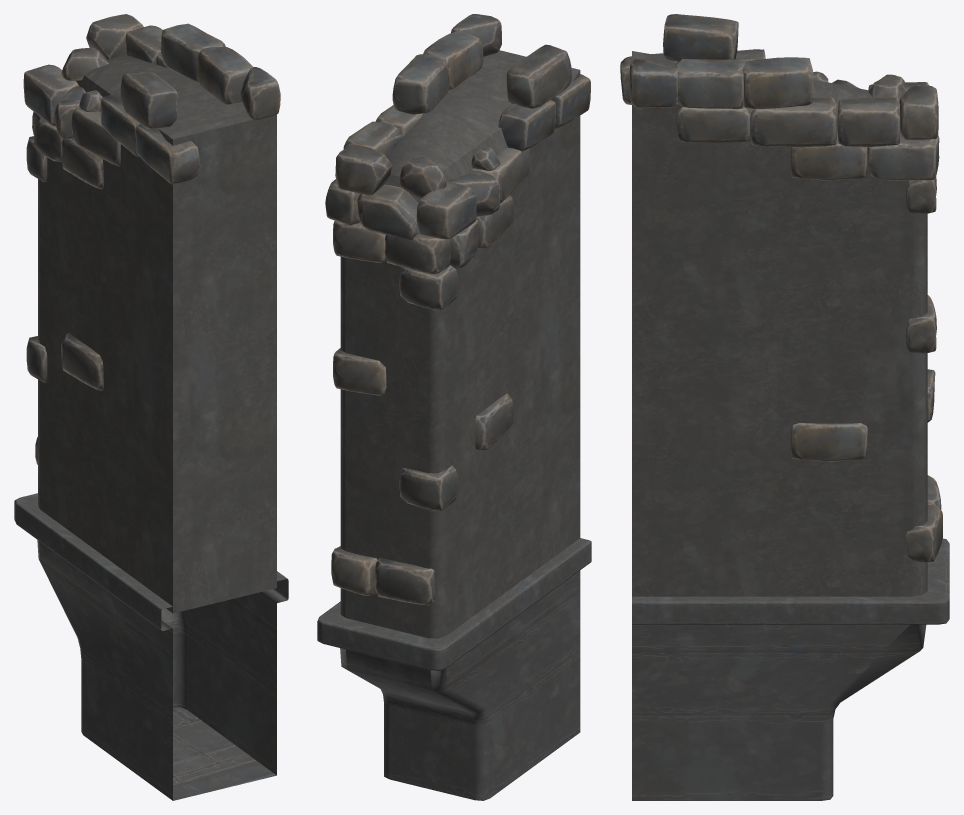
File: Arena_Pillar.fbx
The picture shows the model from 3 angles, left to right: view 1: azimuth 30°, elevation 25°; view 2: azimuth 150°, elevation 25°; view 3: azimuth 270°, elevation 25°; orthographic projection. The views are drawn at different scales.
Parts seen in each view (by area): view 1: Box009, blocks_020; view 2: Box009, blocks_020; view 3: Box009, blocks_020.
Boxes of the visible parts, <box> form: Box009: <box>14,54,288,800</box>; blocks_020: <box>23,14,280,464</box>; Box009: <box>317,50,591,800</box>; blocks_020: <box>325,14,590,605</box>; Box009: <box>632,51,949,800</box>; blocks_020: <box>620,14,942,562</box>.
Size of the model in its own units: 219 by 1095 by 447.
